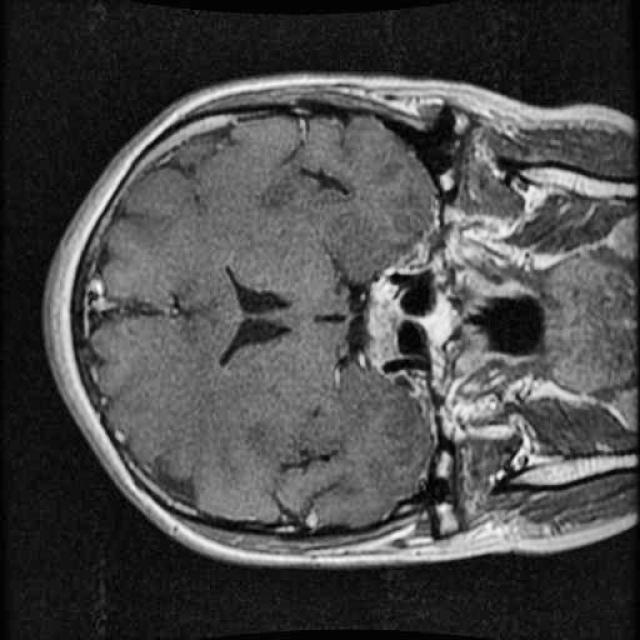Tumor: (361, 275, 412, 382)
